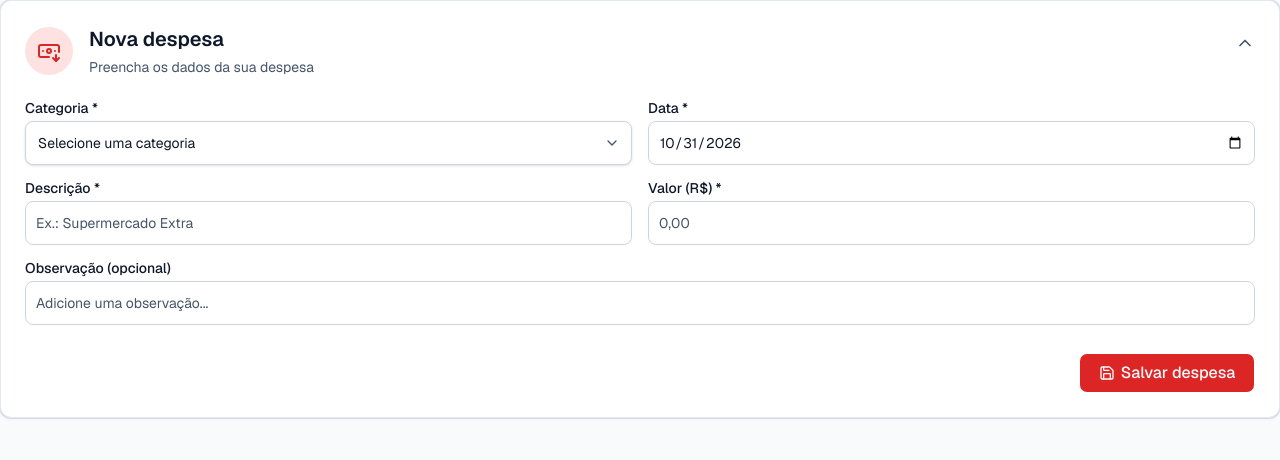
Test: ExpenseForm › should reject an amount above the allowed ceiling
Select "Combustivel" in the dropdown labelled "Categoria *" at (328, 143), box [25,121,632,165]
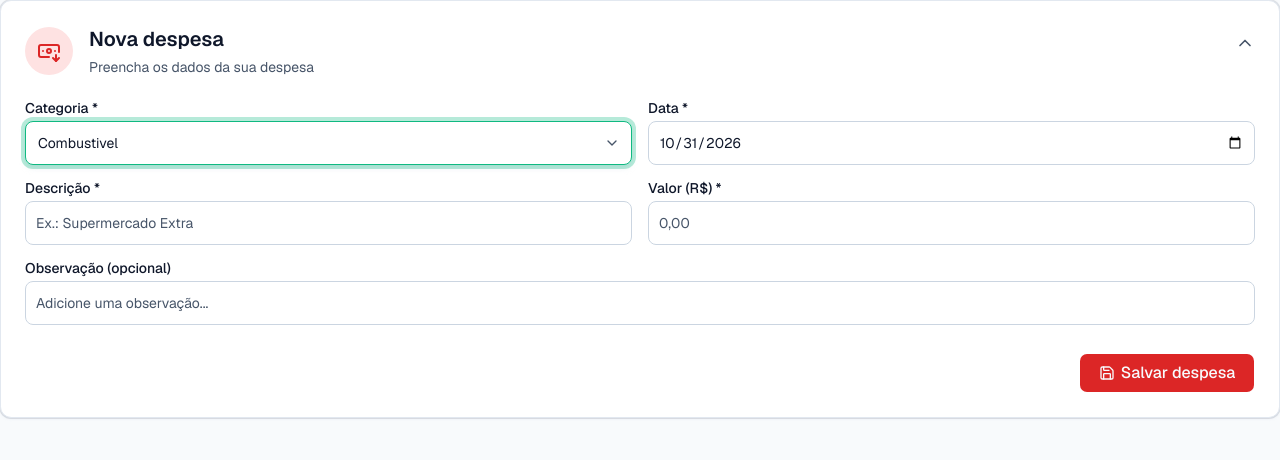
Type "Combustivel" into the field labelled "Descrição *" at (328, 223), box [25,201,632,245]
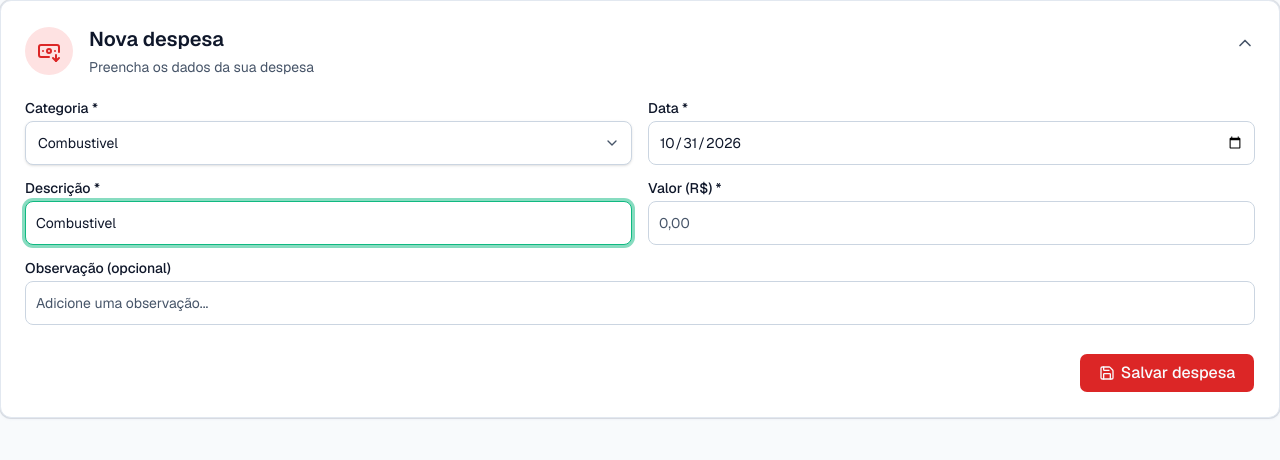
Type "1000000000000" into the field labelled "Valor (R$) *" at (952, 223), box [648,201,1255,245]
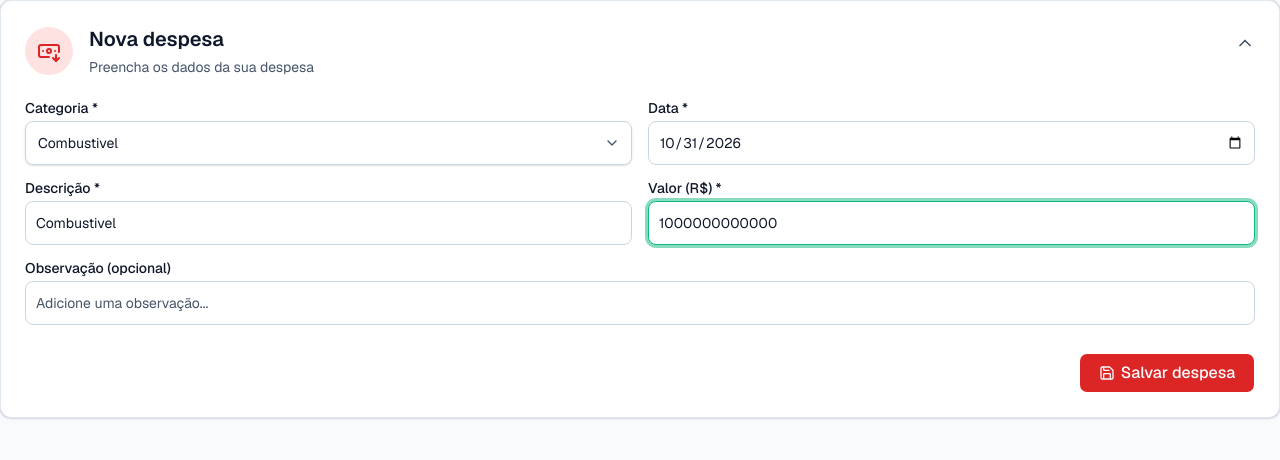
Type "2026-05-16" into the date field labelled "Data *" at (952, 143), box [648,121,1255,165]
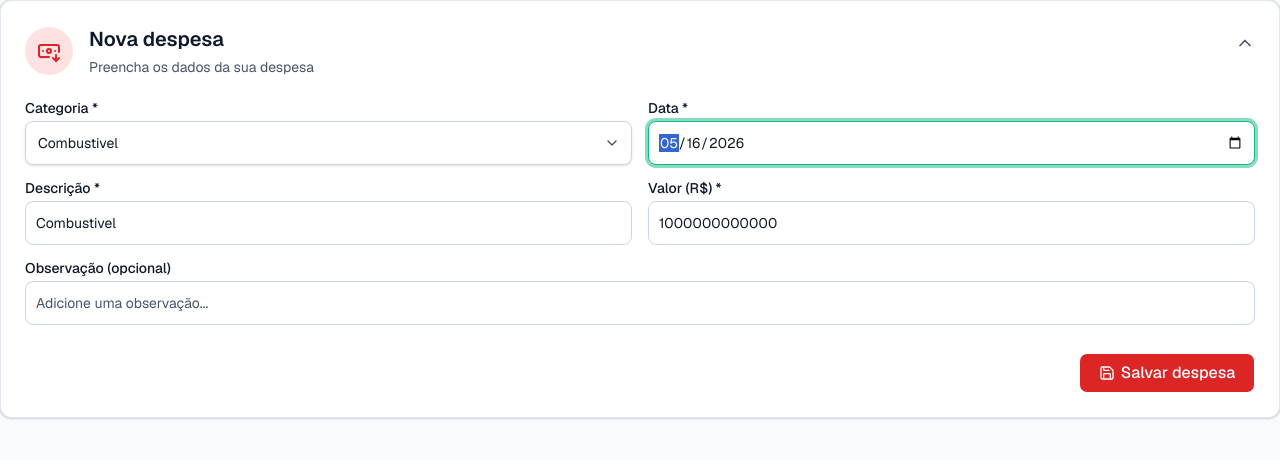
Click the button "Salvar despesa" at (1167, 373), box [1079,353,1255,393]
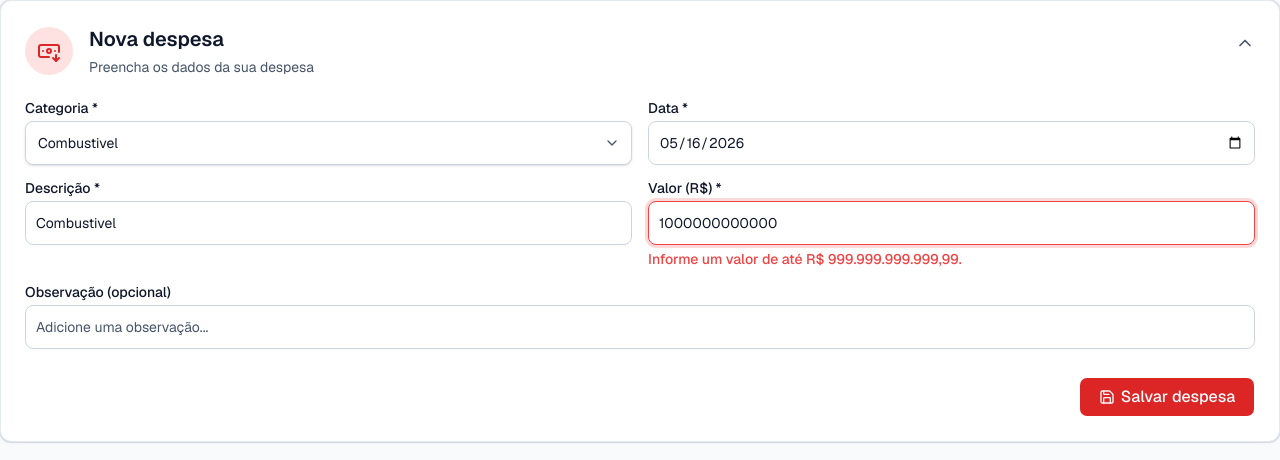
expect the text "Informe um valor de até R$ 999.999.999.999,99." is shown: met, box [648,250,962,268]
